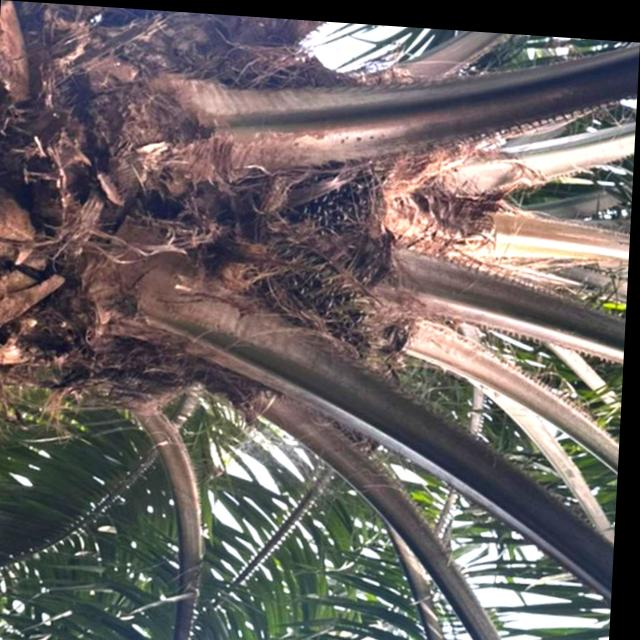unripe: (215, 225, 395, 382), (267, 133, 403, 241)
